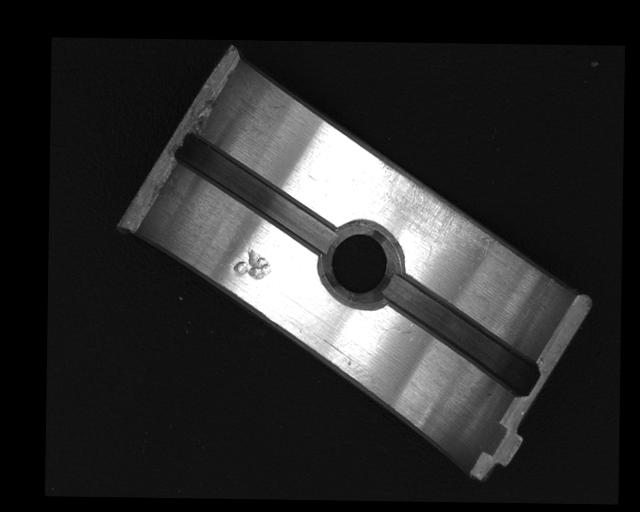bruise: (231, 245, 273, 281)
gap: (175, 132, 336, 254), (382, 273, 541, 393)
hole: (316, 221, 402, 308)
scratch: (375, 157, 505, 260)
